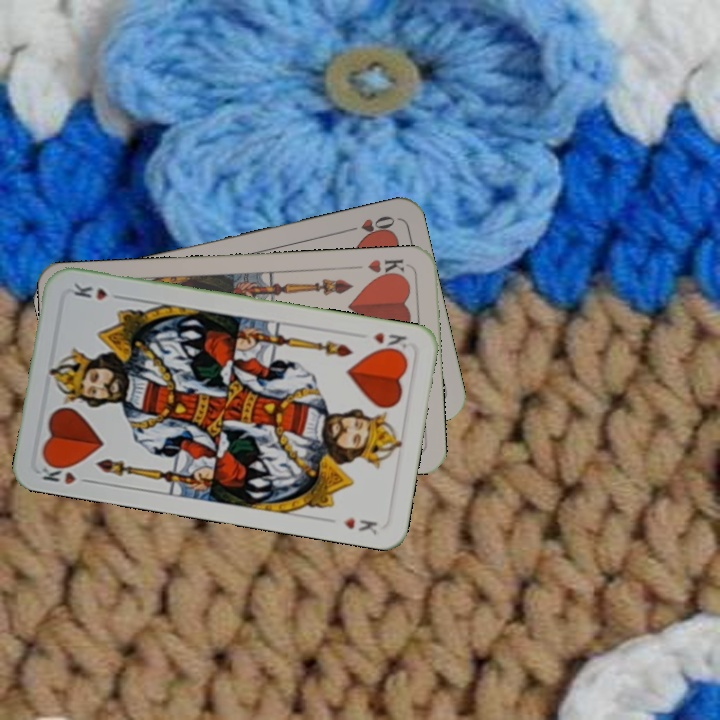HK: (36, 456, 95, 487), (364, 255, 411, 282), (369, 328, 410, 356)
HO: (340, 211, 398, 240)
